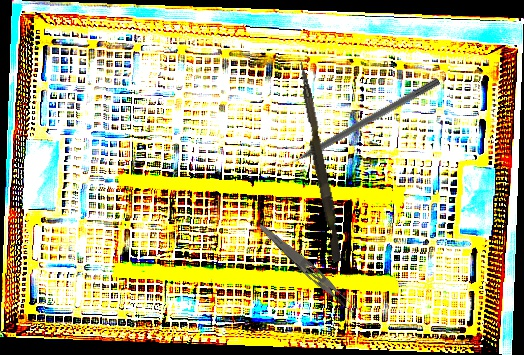Dressing Forceps: (254, 221, 361, 317)
Pusher: (274, 75, 441, 175), (291, 61, 347, 263)
